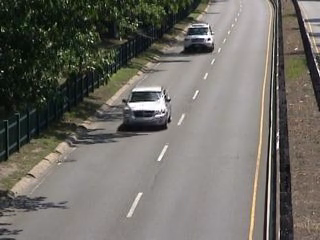car: (118, 84, 176, 129), (180, 19, 216, 54)
